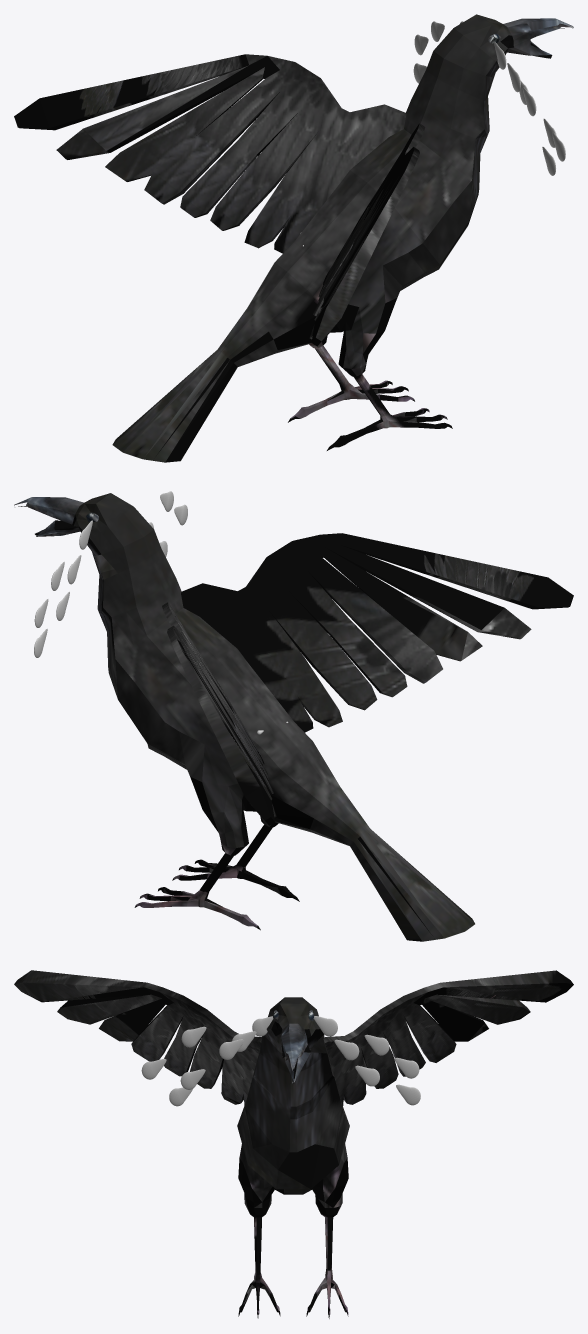
File: aasooo_000010.obj
The picture shows the model from 3 angles, top to bottom: view 1: azimuth 30°, elevation 25°; view 2: azimuth 150°, elevation 25°; view 3: azimuth 270°, elevation 25°; orthographic projection. The views are drawn at different scales.
Parts seen in each view (by area): view 1: Cylinder.001, Cylinder.002, Cylinder.003; view 2: Cylinder.001, Cylinder.003, Cylinder.002; view 3: Cylinder.001, Cylinder.003, Cylinder.002.
Boxes of the visible parts, x1,y1,x2,y2 form: Cylinder.001: (112,14,573,462); Cylinder.002: (14,54,406,253); Cylinder.003: (309,123,425,346); Cylinder.001: (14,493,474,941); Cylinder.003: (181,533,573,732); Cylinder.002: (162,602,276,825); Cylinder.001: (237,997,349,1318); Cylinder.003: (14,970,261,1105); Cylinder.002: (309,970,573,1105).
Bounding box in the file's own units: 2.61 × 2.05 × 3.03.
